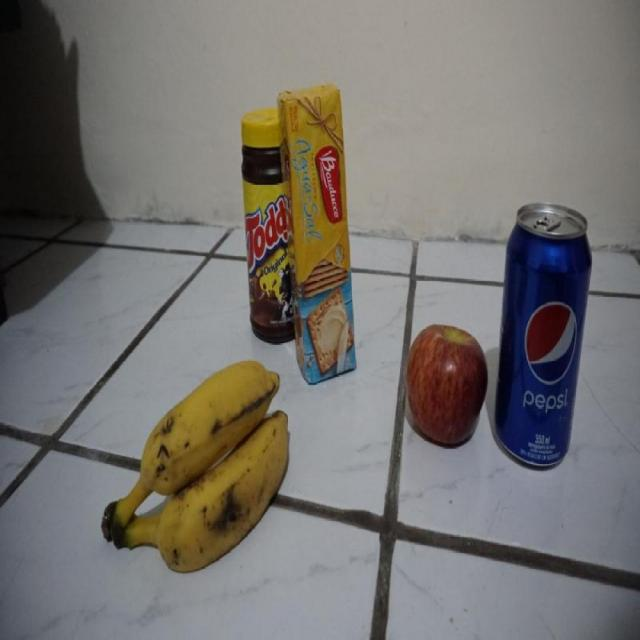Apple: (406, 324, 489, 448)
Banana: (100, 359, 290, 574)
ChocolatePowder: (240, 106, 299, 351)
Cracker: (277, 80, 359, 386)
SodaCan: (493, 202, 593, 474)
